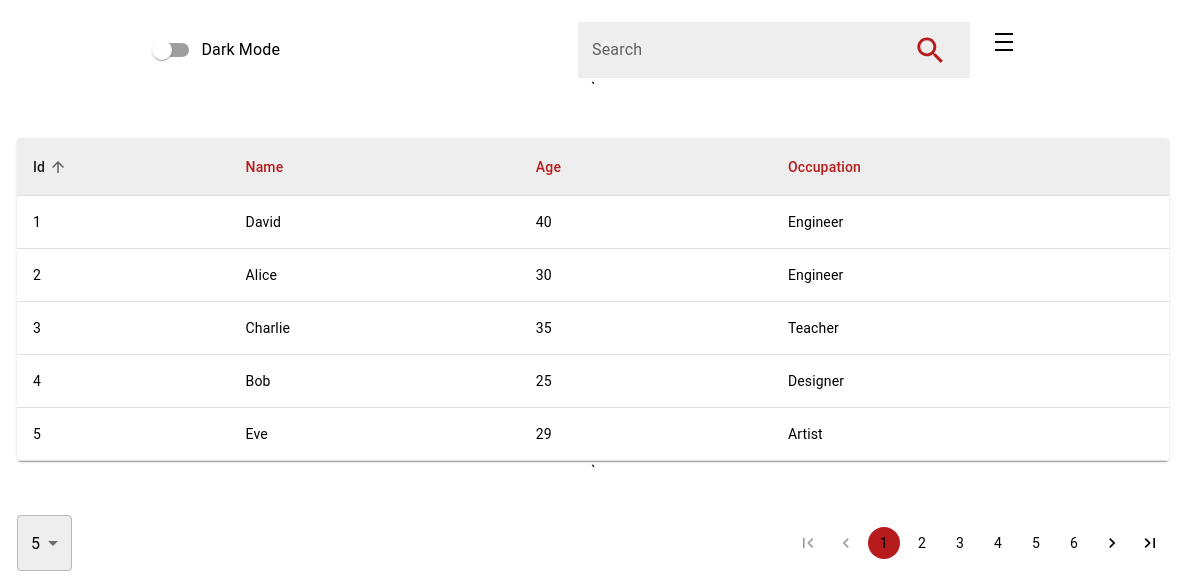
Test: filters data based on search term
Type "Nurse" into the field labelled "Search" at (745, 50), box 578,22 -> 913,78
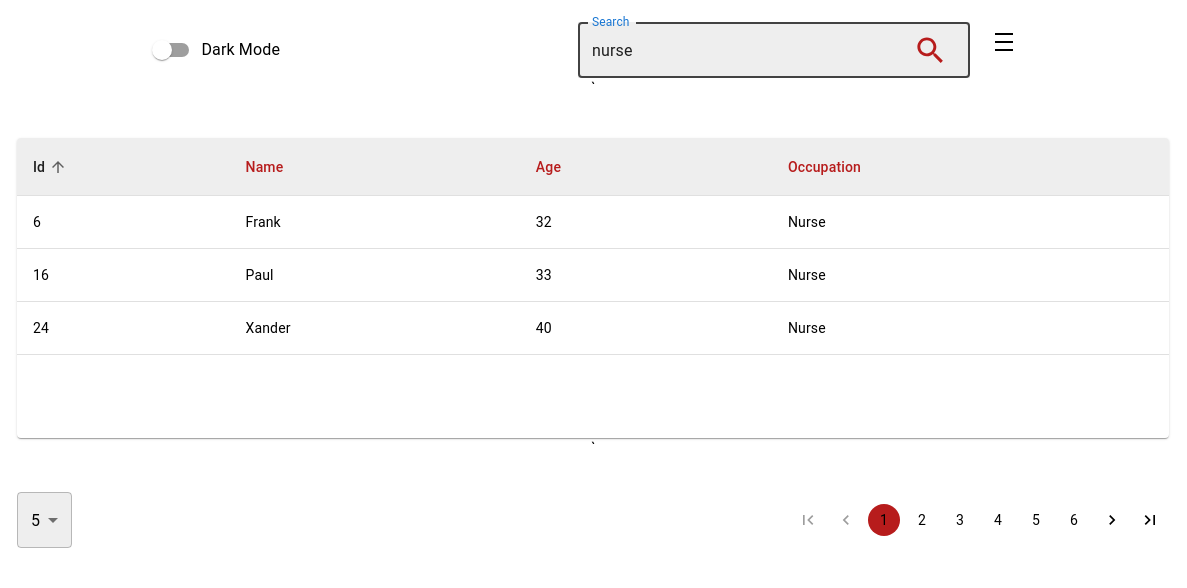
Result: the text "Frank" is shown at 230,196 -> 520,249
Result: the text "Paul" is shown at 230,249 -> 520,302
Result: the text "Xander" is shown at 230,302 -> 520,355
